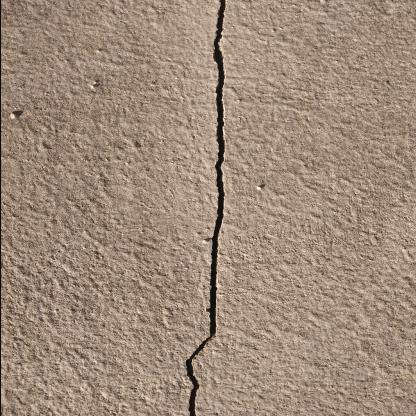crack: (184, 0, 225, 416)
